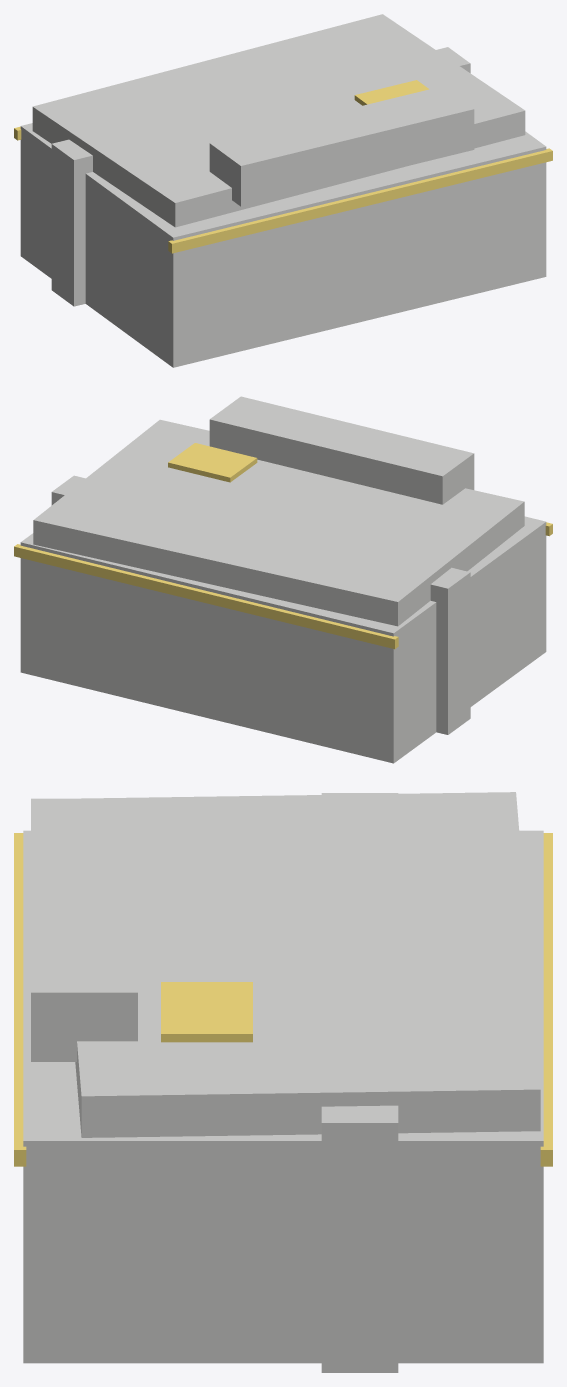
File: HJ_Albornoz.fbx
The picture shows the model from 3 angles, top to bottom: view 1: azimuth 30°, elevation 25°; view 2: azimuth 150°, elevation 25°; view 3: azimuth 270°, elevation 25°; orthographic projection. The views are drawn at different scales.
Visible parts, largest first — view 1: HJ_Albornoz; view 2: HJ_Albornoz; view 3: HJ_Albornoz.
Boxes of the visible parts, x1,y1,x2,y2 form: HJ_Albornoz: (14, 14, 552, 367); HJ_Albornoz: (14, 396, 552, 763); HJ_Albornoz: (14, 792, 552, 1372).
Bounding box in the file's own units: 0.51 × 0.225 × 0.352.
